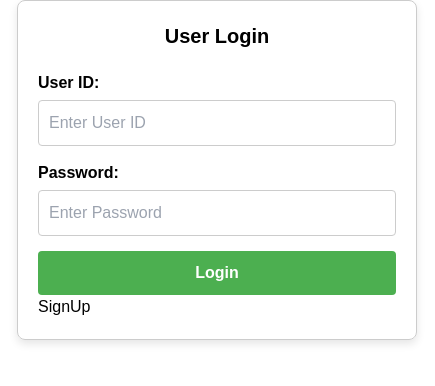
it: Login Component › Should display an alert for empty UID input
Type "password123" into the password field with placeholder "Enter Password" at (217, 213), box [38,190,396,236]
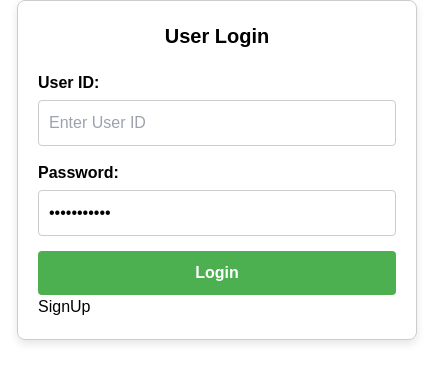
Click the button "Login" at (217, 273), box [38,251,396,295]
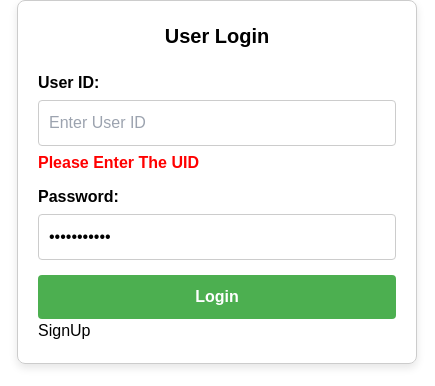
Result: the text "Please Enter The UID" is shown at [38,154,199,171]
